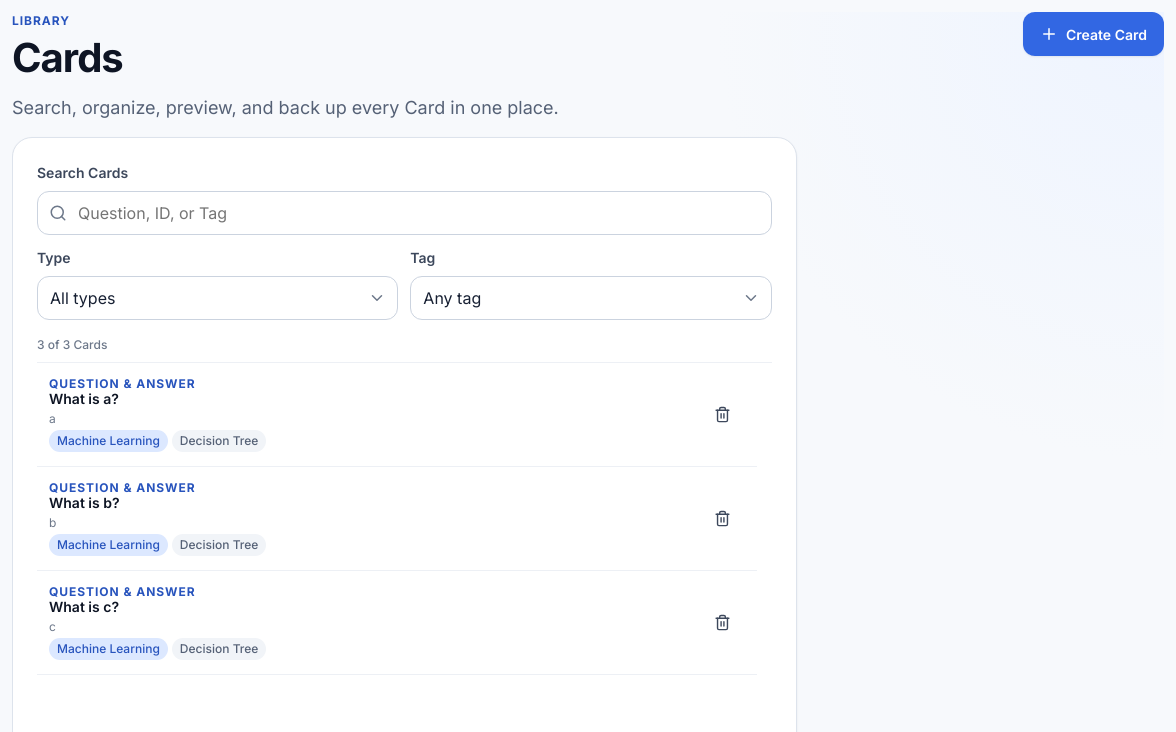
the count shows the listed and all Cards, the plural following all: 1 of 3 Cards
Type "b" into the search field labelled "Search Cards". click: coordinates (404, 213)
box: [37,191,772,235]
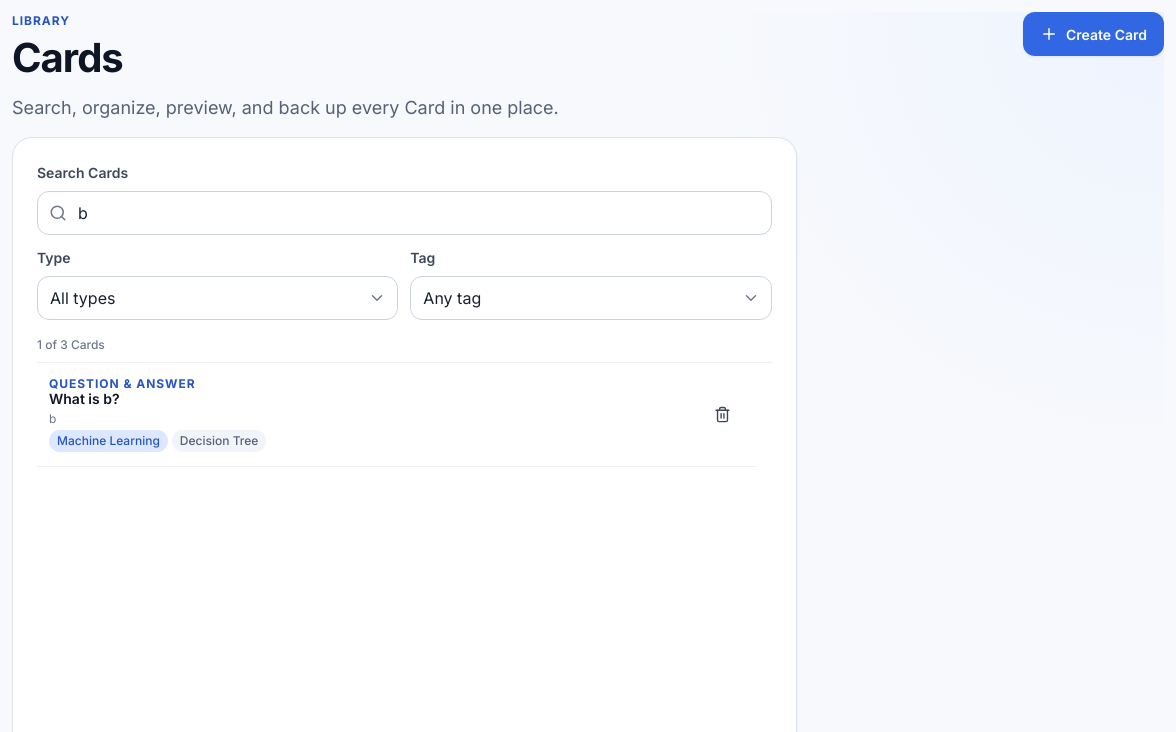
Expected: the text "1 of 3 Cards" is shown, [37,336,105,354]
